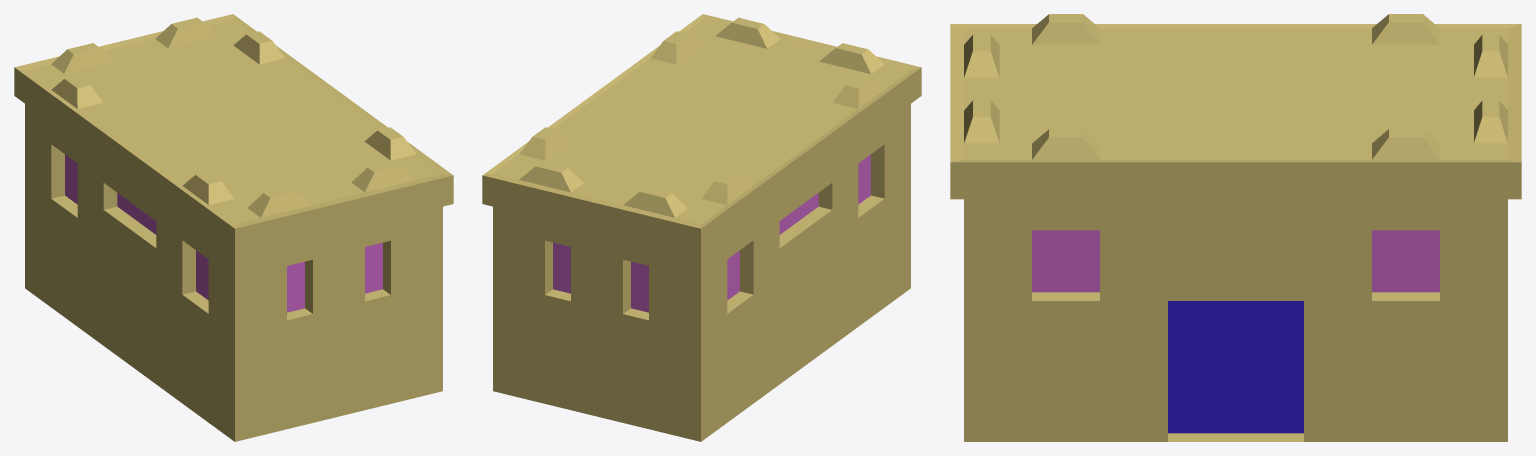
Rendered from housedesert.fbx.
3 views of the same model, side by side, from view 1: azimuth 30°, elevation 25°; view 2: azimuth 150°, elevation 25°; view 3: azimuth 270°, elevation 25° (orthographic). The views are drawn at different scales.
Parts seen in each view (by area): view 1: Cube.008; view 2: Cube.008; view 3: Cube.008.
Part boxes in pixels (box(x1,y1,x2,y2)): Cube.008: box(14, 14, 453, 441); Cube.008: box(482, 14, 921, 441); Cube.008: box(950, 14, 1521, 441).
Size of the model in its own units: 401 by 409 by 701.
